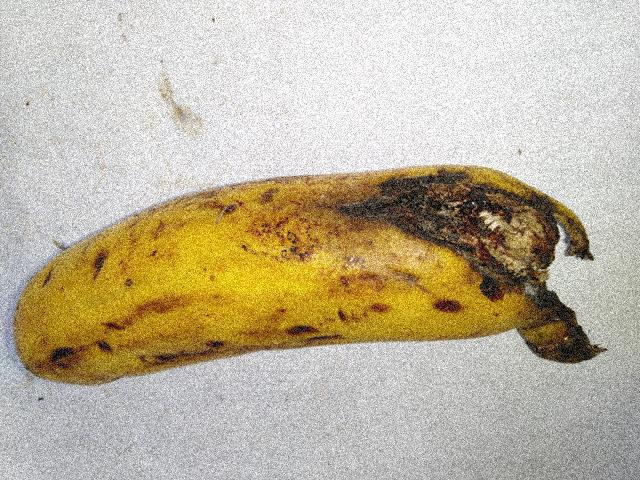rotten: (336, 138, 613, 379)
